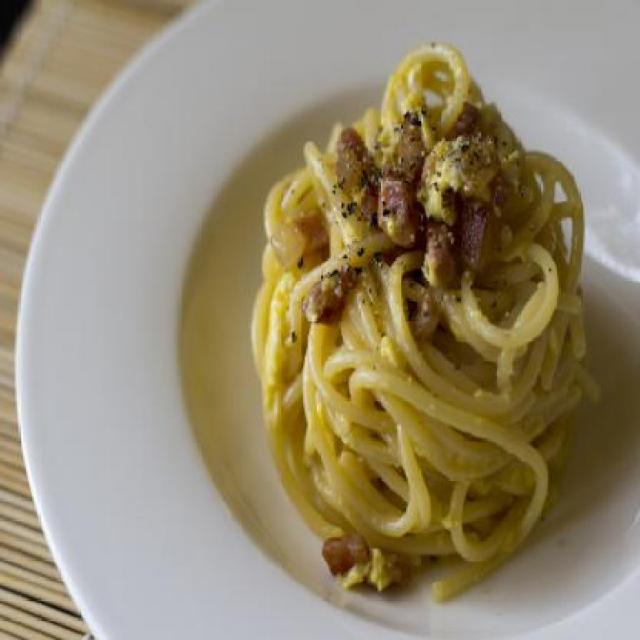Pasta with carbonara sauce: (197, 30, 606, 613)
